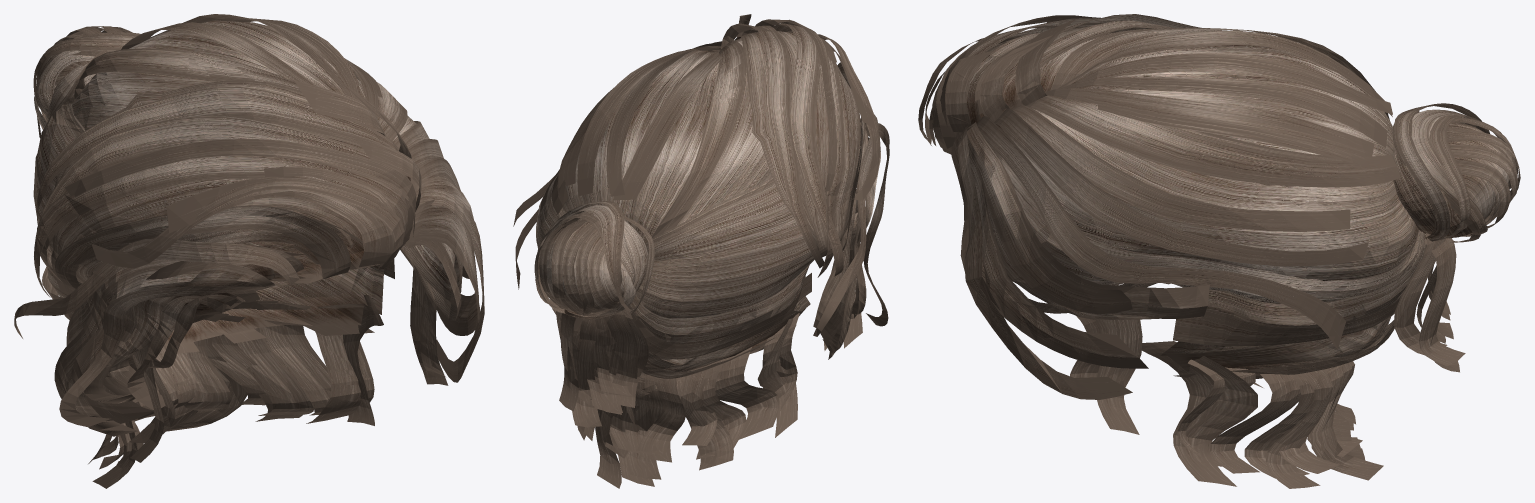
The model's file is Hair_1_try.glb.
The picture shows the model from 3 angles, left to right: view 1: azimuth 30°, elevation 25°; view 2: azimuth 150°, elevation 25°; view 3: azimuth 270°, elevation 25°; orthographic projection. The views are drawn at different scales.
Parts seen in each view (by area): view 1: hair_1; view 2: hair_1; view 3: hair_1.
Boxes of the visible parts, bbox=[...] form: hair_1: bbox=[14, 14, 484, 488]; hair_1: bbox=[513, 14, 889, 488]; hair_1: bbox=[918, 14, 1520, 488].
Size of the model in its own units: 0.2169 by 0.2471 by 0.3051.
1 material, 1 textured.
